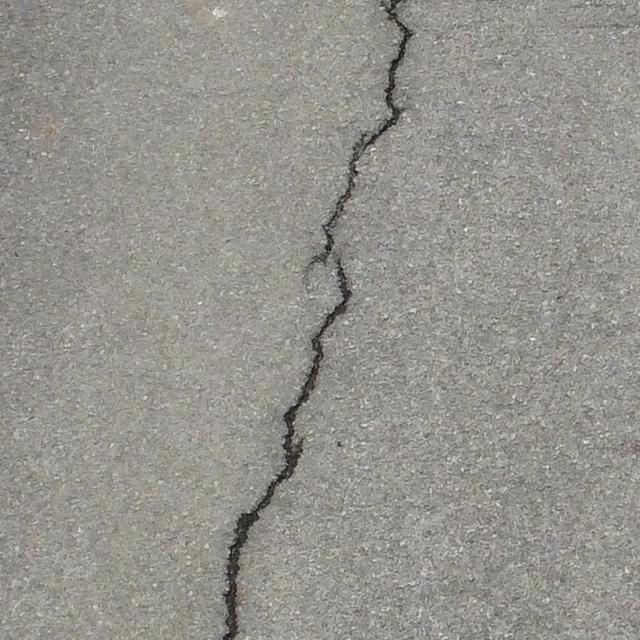LongitudinalCrack: (223, 1, 417, 640)
